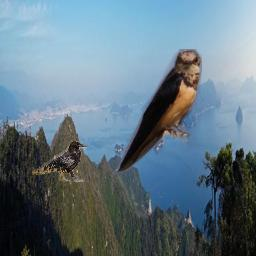Crow: (32, 141, 87, 182)
Swallow: (116, 49, 202, 176)
